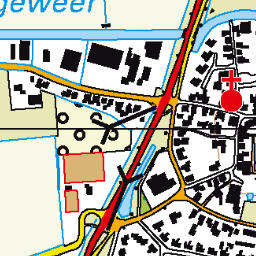church: (216, 69, 247, 115)
